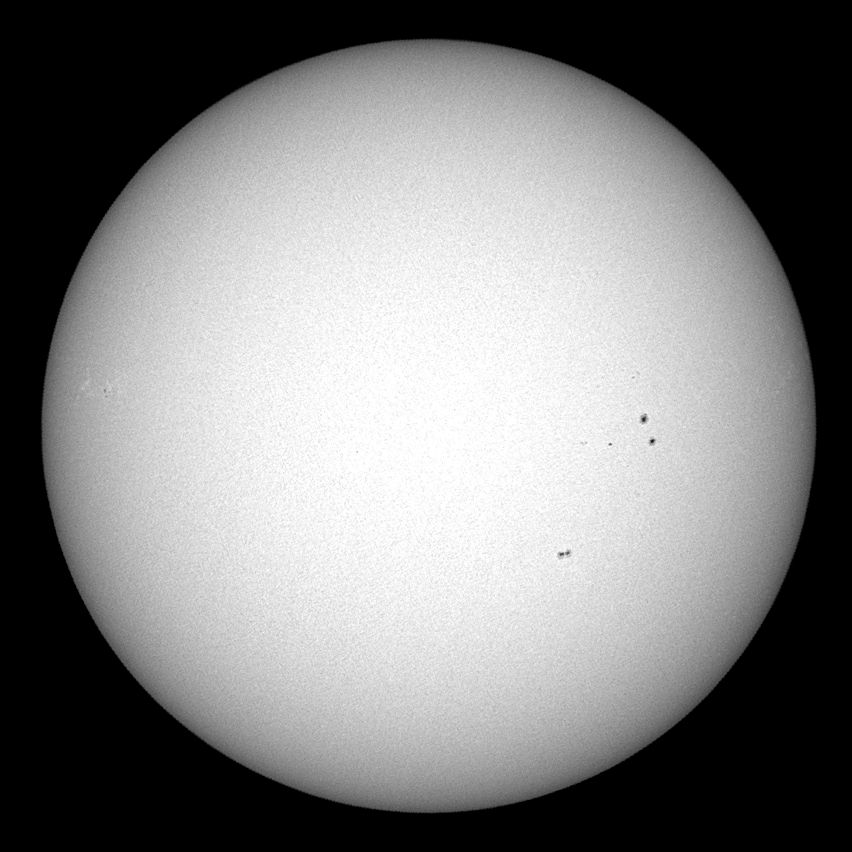sunspot: (552, 546, 574, 561), (636, 410, 653, 426), (645, 434, 661, 450)
